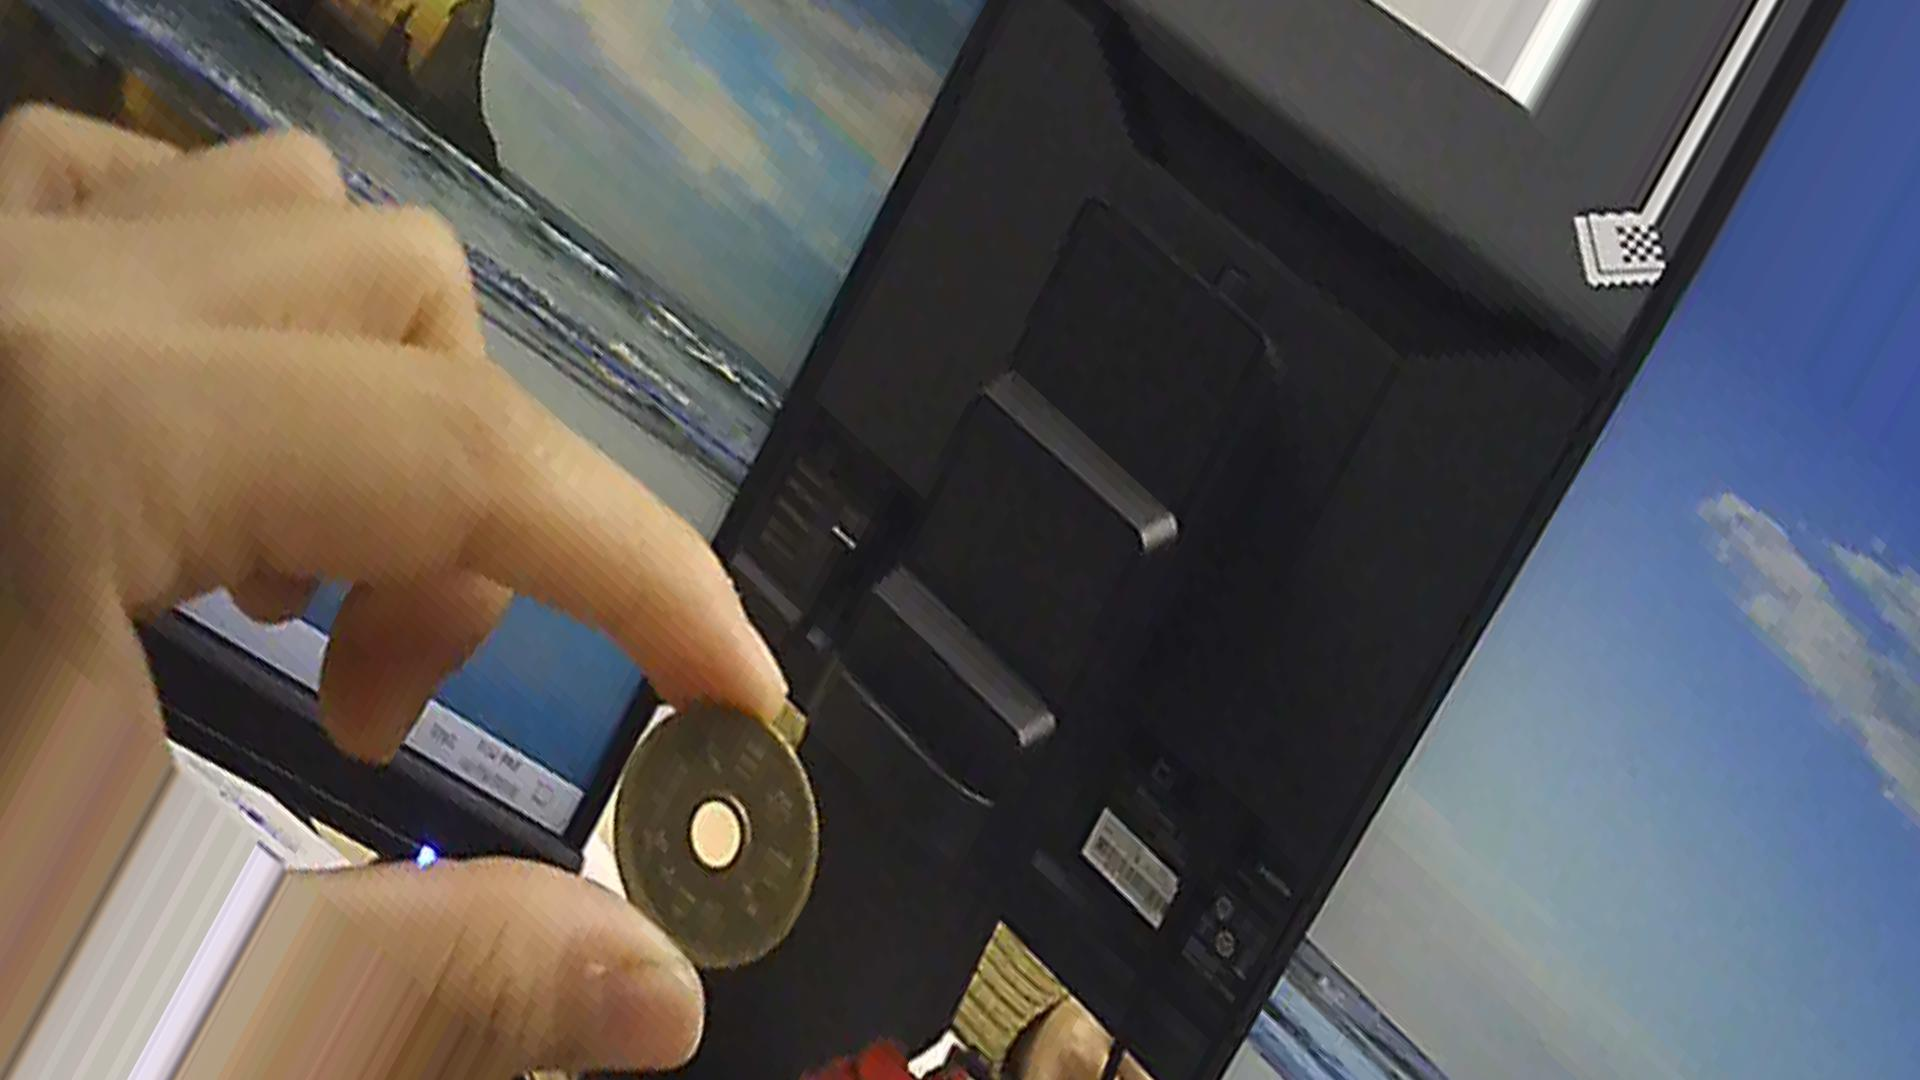5 Yen: (603, 698, 818, 961)
